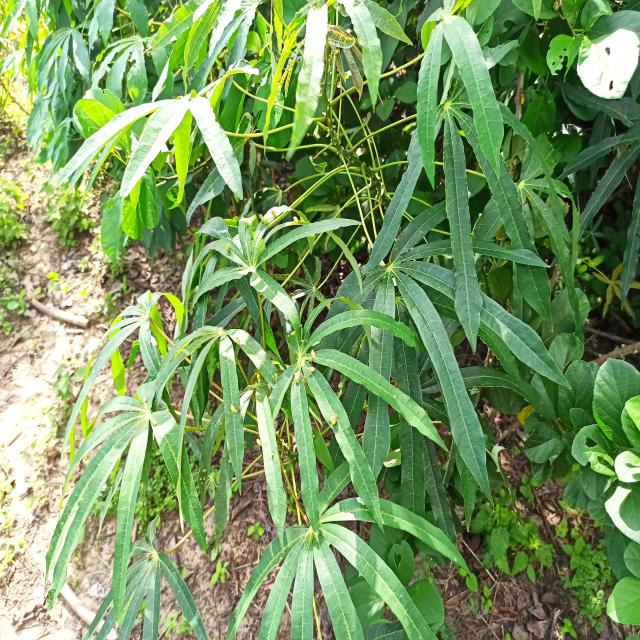Maleza: (564, 341, 640, 583), (545, 6, 638, 112)
Mosca: (305, 340, 322, 375), (325, 408, 343, 429), (256, 210, 274, 231), (223, 236, 235, 257), (291, 210, 301, 229), (290, 370, 300, 388), (226, 400, 236, 416)
